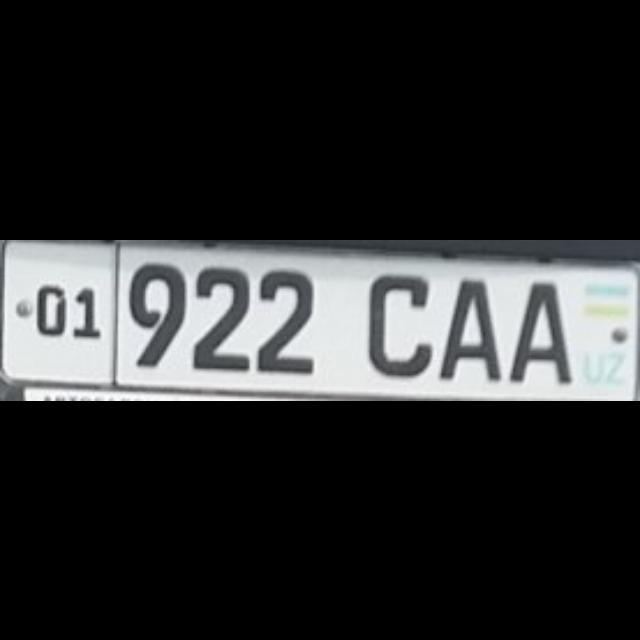0: (33, 282, 65, 334)
1: (72, 284, 96, 334)
2: (189, 262, 247, 368), (254, 265, 310, 371)
9: (125, 260, 183, 364)
A: (506, 278, 568, 380), (437, 274, 497, 378)
C: (364, 271, 430, 373)
